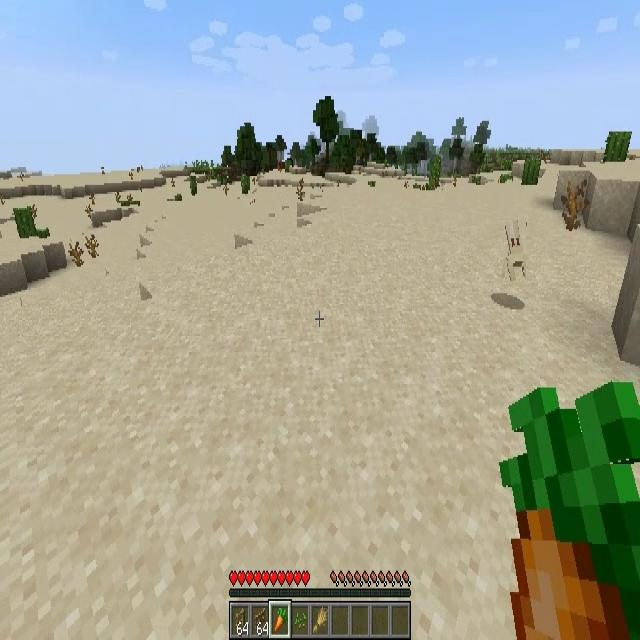rabbit: (505, 220, 526, 284)
